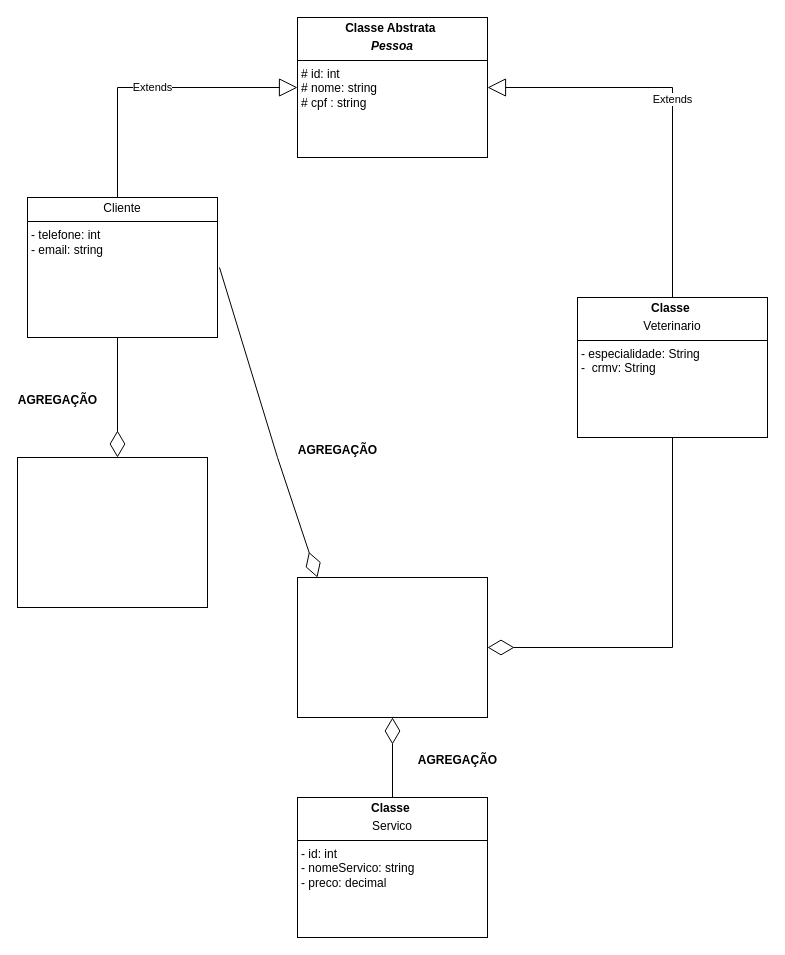
This 785x955 diagram has some shape labels left out. Here are the shapes that lost their labels. From the top down, the centre of each, then its label:
At point 112,532: "Classe Animal - nome: string - especie: string - raca: string".
At point 392,647: "Classe Consulta - id: int - dia: DateTime - motivo: String - comentarios: String".
